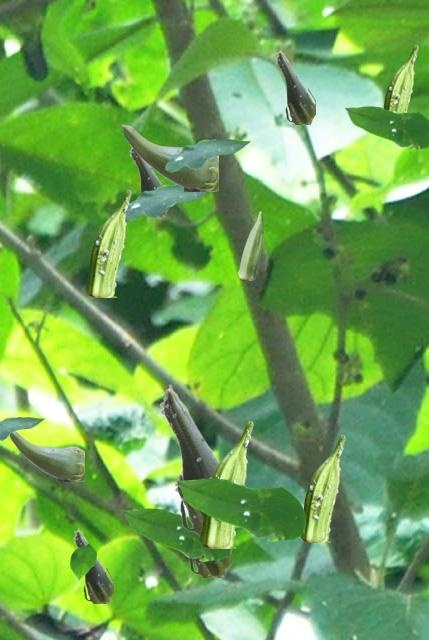okra: (159, 384, 219, 535), (200, 421, 252, 547), (121, 124, 217, 190), (174, 470, 230, 576), (86, 190, 130, 296), (300, 435, 344, 541), (9, 431, 83, 480), (275, 49, 314, 123), (73, 528, 112, 602), (129, 145, 168, 215), (383, 45, 417, 112), (238, 211, 262, 279)
